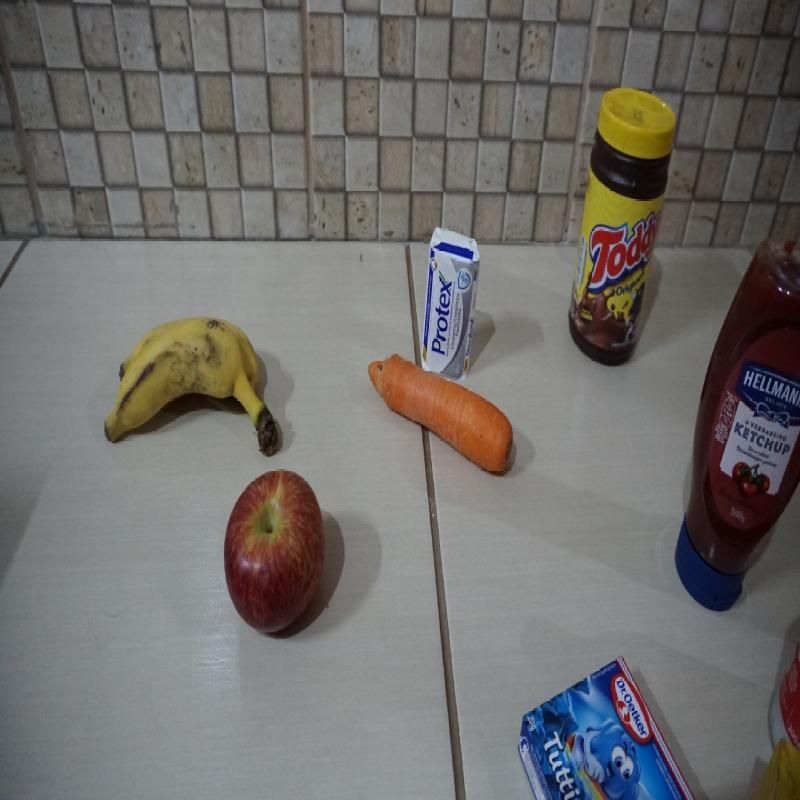Apple: (221, 467, 326, 635)
Banana: (105, 314, 280, 458)
Carrot: (366, 355, 515, 472)
Chocolate Powder: (568, 84, 678, 365)
Gelatine: (514, 651, 695, 798)
Ketchup: (682, 232, 800, 615)
Soap: (423, 223, 480, 348)
